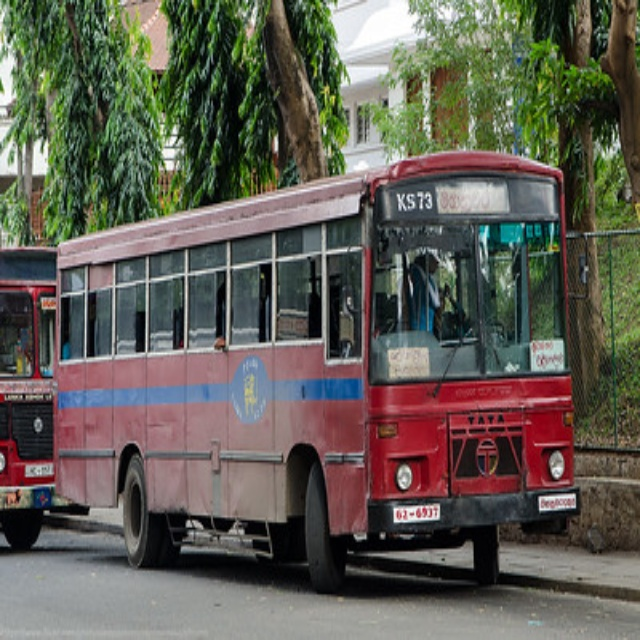Bus: (51, 151, 581, 594), (2, 242, 53, 549)
